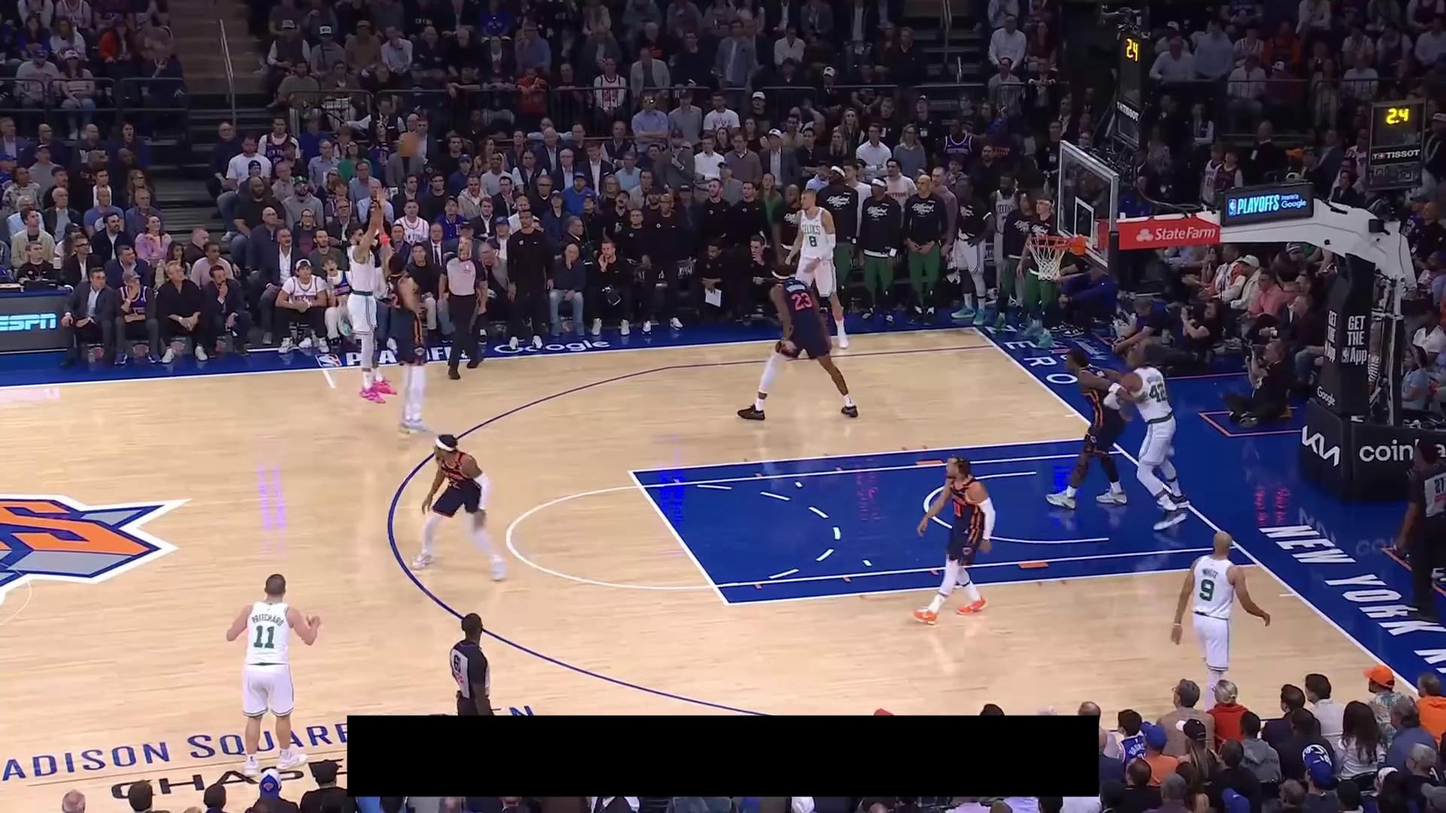ball: (397, 130, 423, 158)
number: (252, 624, 276, 649), (791, 292, 813, 311), (1149, 382, 1167, 403), (1200, 579, 1214, 601), (807, 234, 818, 248), (953, 501, 962, 518), (451, 477, 459, 489)
player: (224, 572, 322, 785), (736, 260, 861, 422), (1168, 528, 1272, 708), (910, 450, 999, 626), (1044, 345, 1135, 513), (408, 432, 509, 583), (1115, 341, 1194, 531), (782, 187, 851, 352)
player-jump-shot: (340, 187, 395, 405)
player-shot-block: (374, 202, 436, 439)
referee: (1393, 440, 1446, 622), (438, 233, 488, 380), (448, 612, 498, 715)
rim: (1027, 234, 1071, 249)
